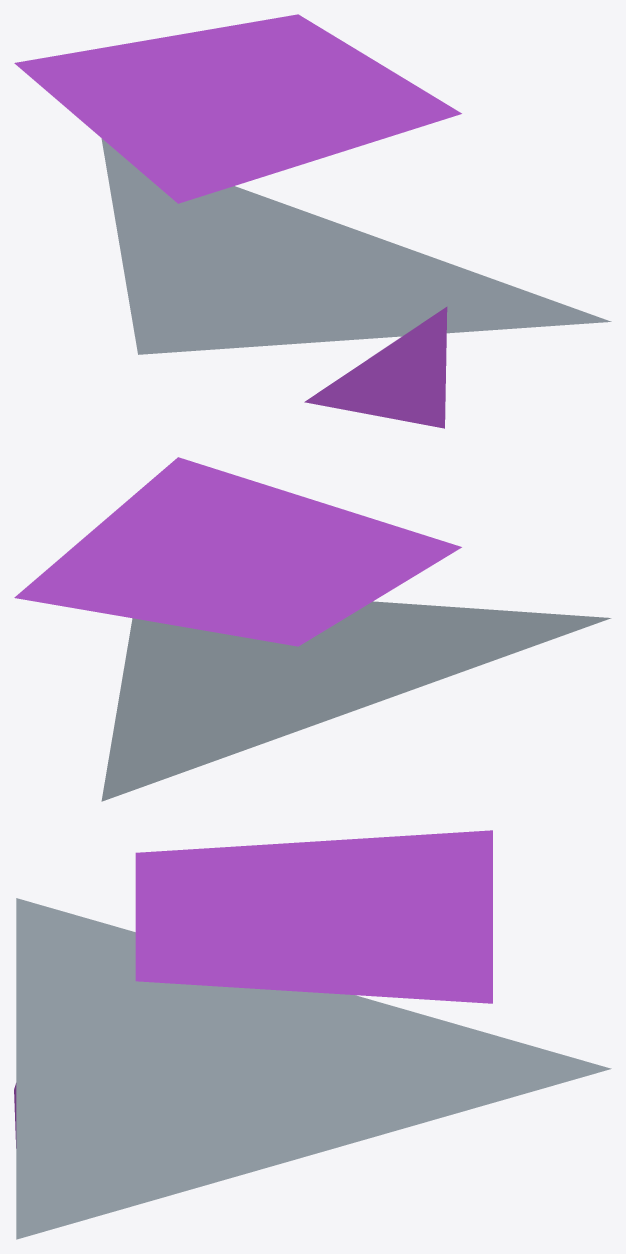
File: CH_WarFactory_LOD2.glb
3 views of the same model, one above another, from view 1: azimuth 30°, elevation 25°; view 2: azimuth 150°, elevation 25°; view 3: azimuth 270°, elevation 25° (orthographic). The views are drawn at different scales.
Visible parts, largest first — view 1: EntranceGate; view 2: EntranceGate; view 3: EntranceGate.
Boxes of the visible parts, x1=… form: EntranceGate: x1=14, y1=14, x2=611, y2=428; EntranceGate: x1=14, y1=457, x2=611, y2=801; EntranceGate: x1=14, y1=830, x2=611, y2=1239.
Bounding box in the file's own units: 800 × 417 × 803.
